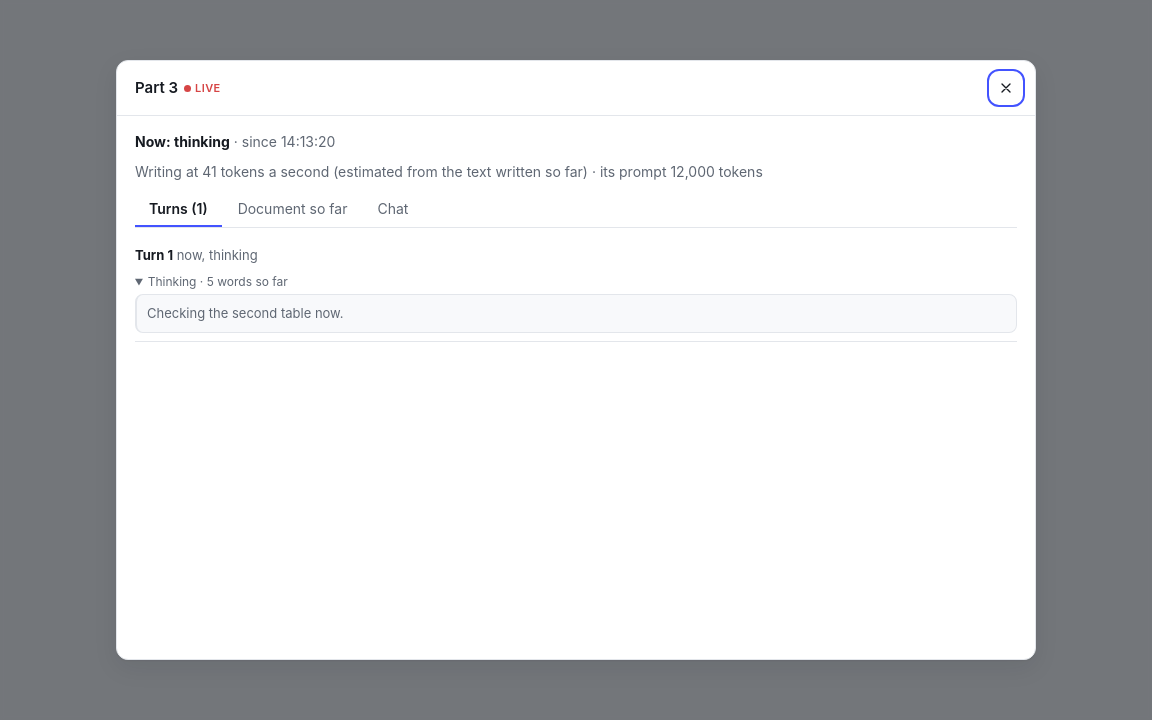
Test: WorkerLive › shows the call under way as the next turn, open, and the chat with its two ways to write
Expected: the text "Now: thinking" is shown, 135,133 -> 230,150
Expected: the text "Writing at 41 tokens a second" is shown, 135,163 -> 763,180
Click the tab "Chat" at {"x": 393, "y": 210}, box 363,192 -> 422,227
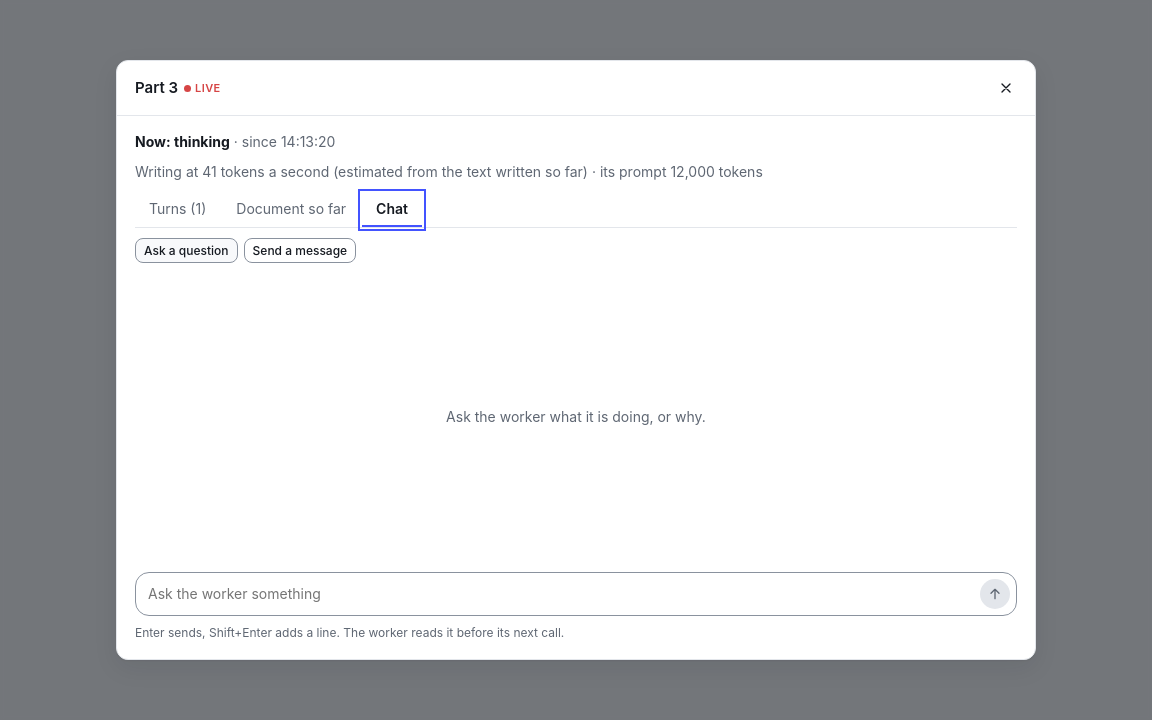
Click the button "Send a message" at {"x": 300, "y": 250}, box 244,238 -> 356,263
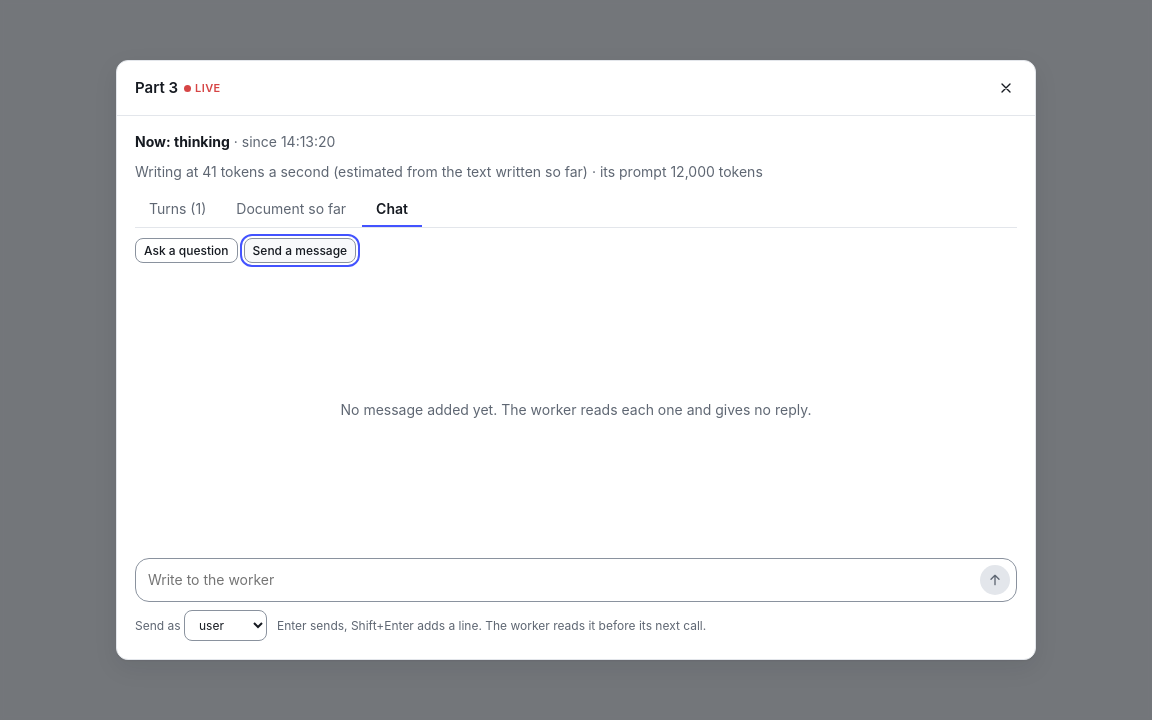
Result: the button "Send a message" is pressed at 244,238 -> 356,263
